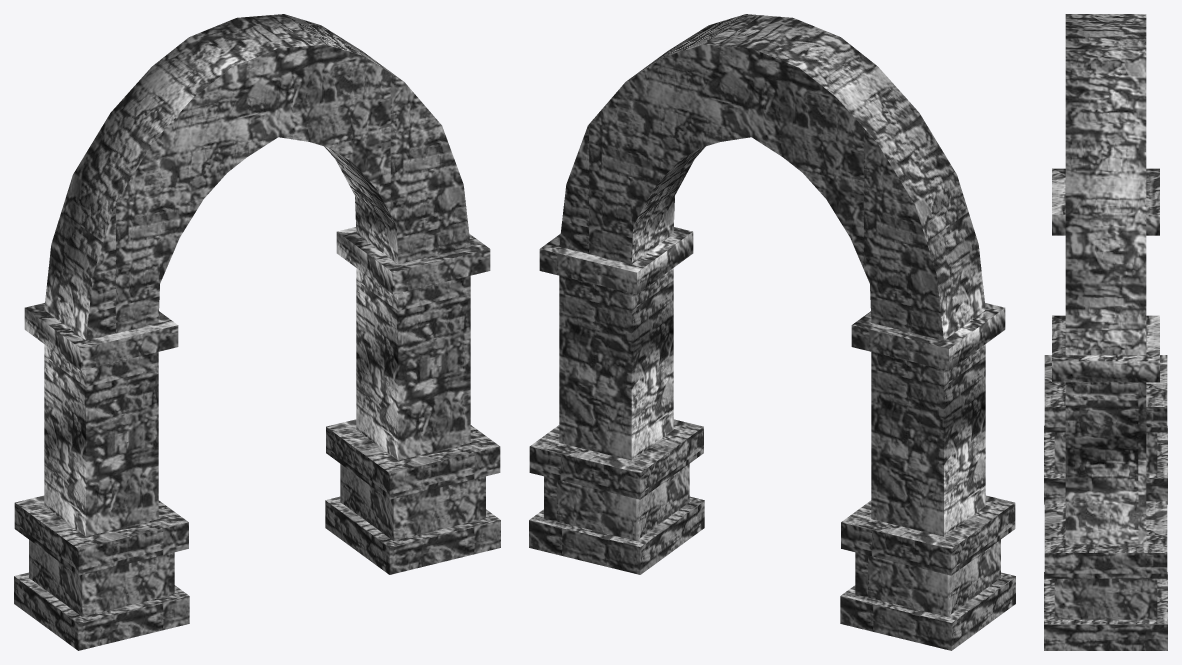
File: portalA.fbx
3 views of the same model, side by side, from view 1: azimuth 30°, elevation 25°; view 2: azimuth 150°, elevation 25°; view 3: azimuth 270°, elevation 25° (orthographic). The views are drawn at different scales.
Visible parts, largest first — view 1: Cube; view 2: Cube; view 3: Cube.
Boxes of the visible parts, x1=… form: Cube: x1=14, y1=14, x2=500, y2=650; Cube: x1=529, y1=14, x2=1015, y2=650; Cube: x1=1044, y1=14, x2=1167, y2=650.
Size of the model in its own units: 14.61 by 17.93 by 3.85.
